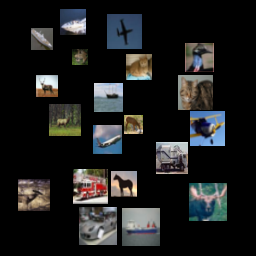airplane: (107, 14, 142, 49), (190, 111, 225, 146), (93, 125, 122, 154)
automobile: (79, 207, 117, 245)
bird: (185, 43, 214, 72)
cat: (178, 75, 213, 110), (126, 54, 152, 80)
deer: (189, 183, 227, 221), (18, 179, 50, 211), (49, 104, 81, 136), (36, 75, 58, 97), (124, 115, 143, 134)
frog: (72, 49, 88, 65)
ship: (122, 208, 160, 246), (94, 83, 123, 112), (60, 9, 86, 35), (31, 28, 53, 50)
